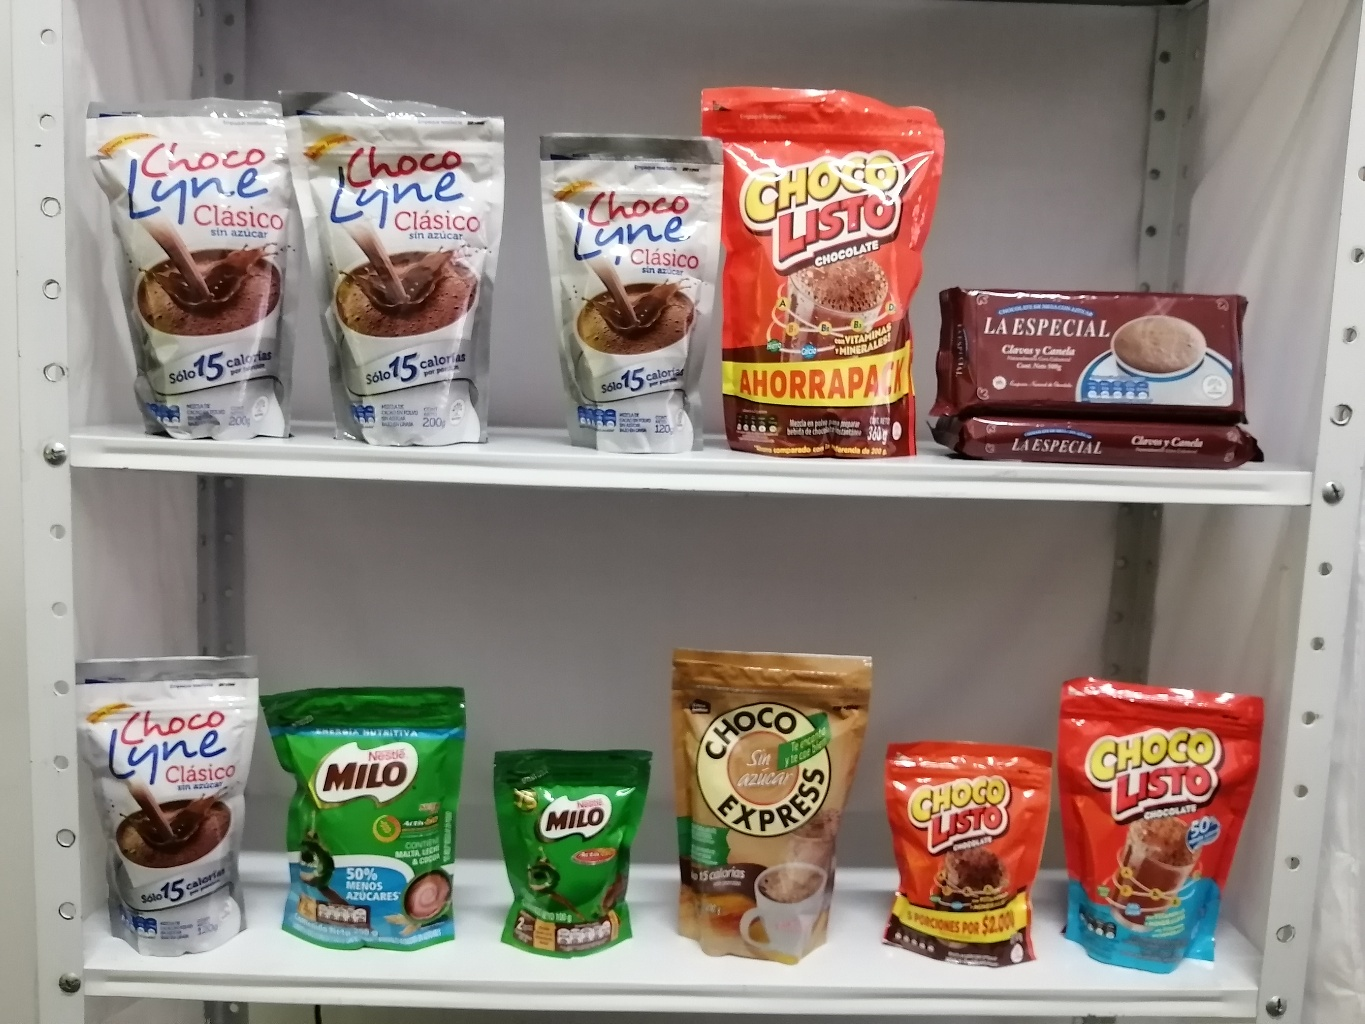COL0170103DYP36000: (699, 74, 933, 467)
COL0170104DYP20000: (1060, 667, 1265, 975)
COL0170203DYP10000: (478, 736, 658, 968)
COL0170205DYP20000: (264, 678, 471, 955)
